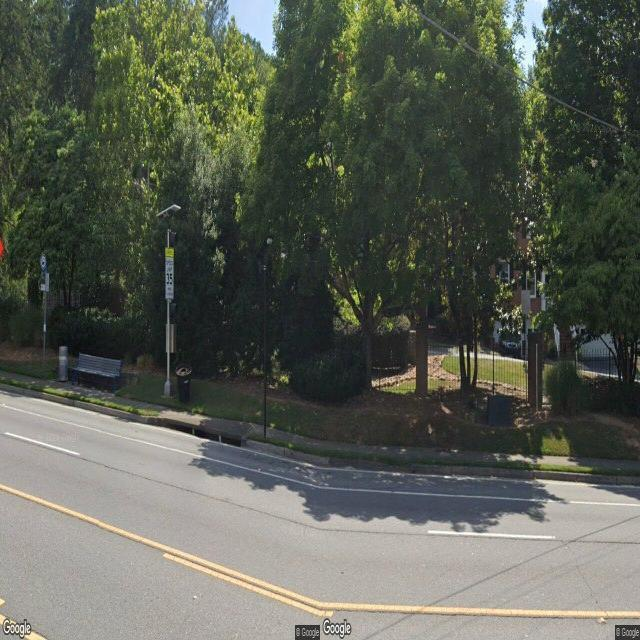seating: (72, 352, 122, 394)
trash_can: (175, 362, 192, 404), (58, 344, 68, 382)
